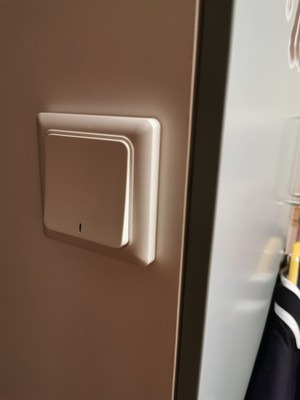switch: (41, 127, 137, 248)
